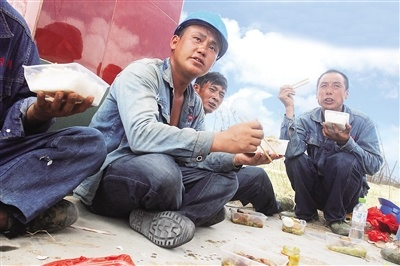blue: (172, 11, 229, 78)
none: (190, 70, 229, 115), (313, 69, 351, 110)
